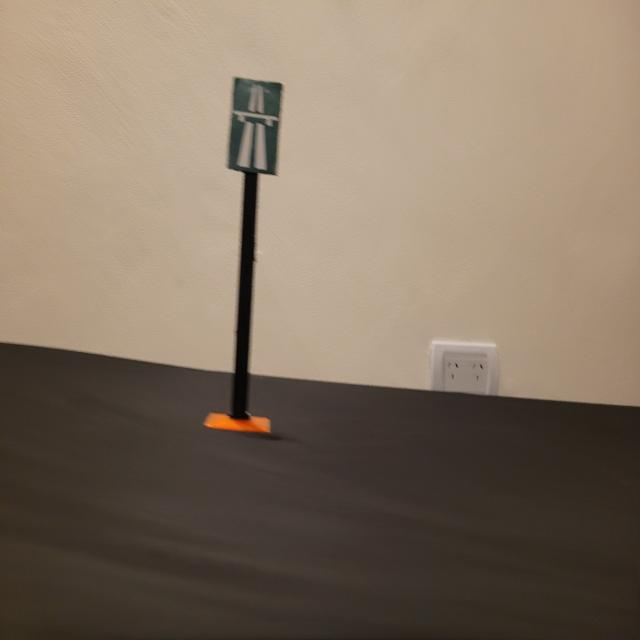highway_entrance: (229, 73, 281, 177)
